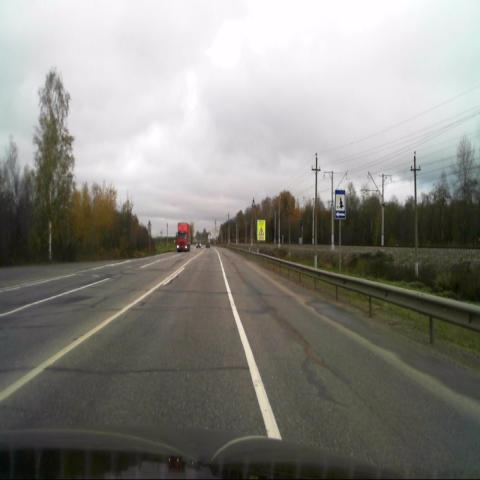7_11: (334, 189, 346, 219)
